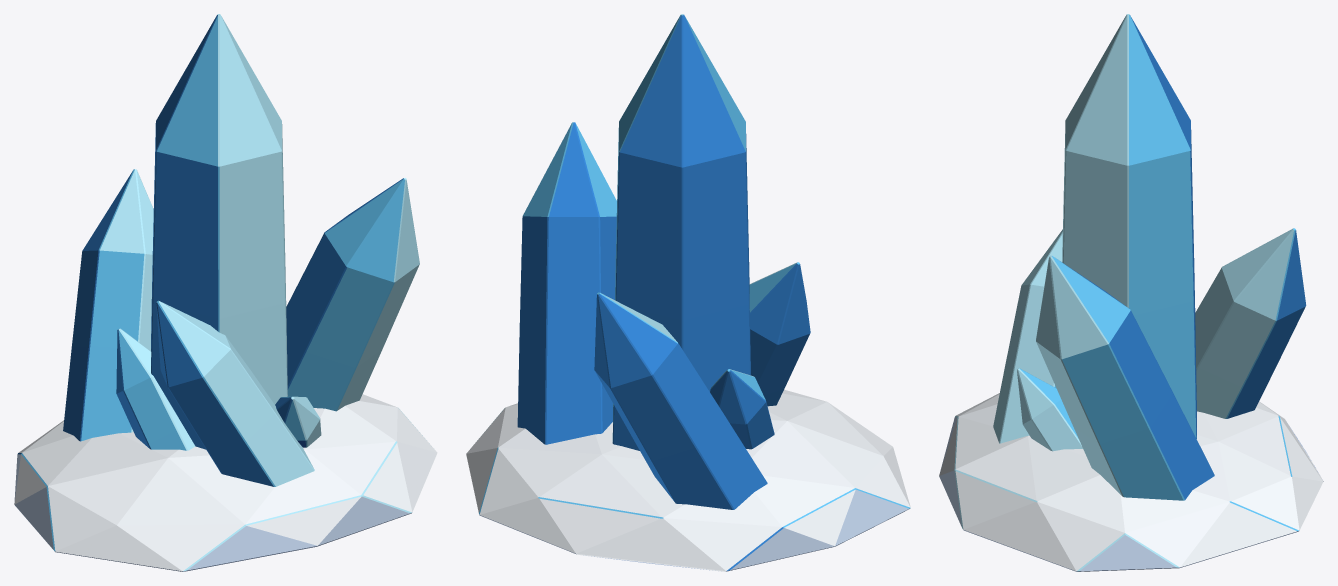
Rendered from IceCrystals.fbx.
The picture shows the model from 3 angles, left to right: view 1: azimuth 30°, elevation 25°; view 2: azimuth 150°, elevation 25°; view 3: azimuth 270°, elevation 25°; orthographic projection.
Parts seen in each view (by area): view 1: IceCrystals; view 2: IceCrystals; view 3: IceCrystals.
Part boxes in pixels (<box>): IceCrystals: <box>14,14,437,571</box>; IceCrystals: <box>466,14,910,571</box>; IceCrystals: <box>939,14,1323,571</box>.
Bounding box in the file's own units: 1.88 × 2.2 × 1.63.
1 material, 1 textured.
